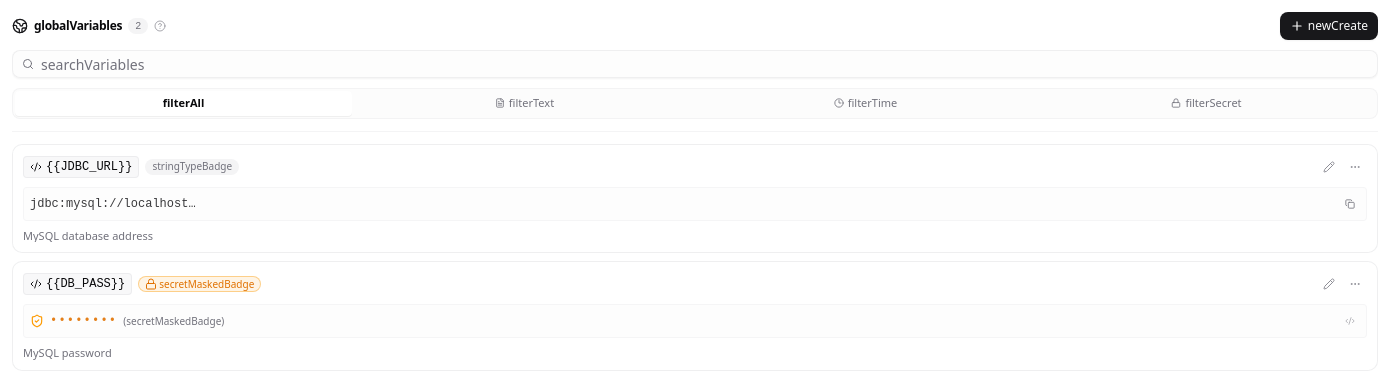
Test: GlobalVariablesSidebarPanel › filters variables by search query
This screenshot has width=1390, height=388.
Type "JDBC" into the field with placeholder "searchVariables".
click(695, 64); type("JDBC")  # box [12, 50, 1378, 78]
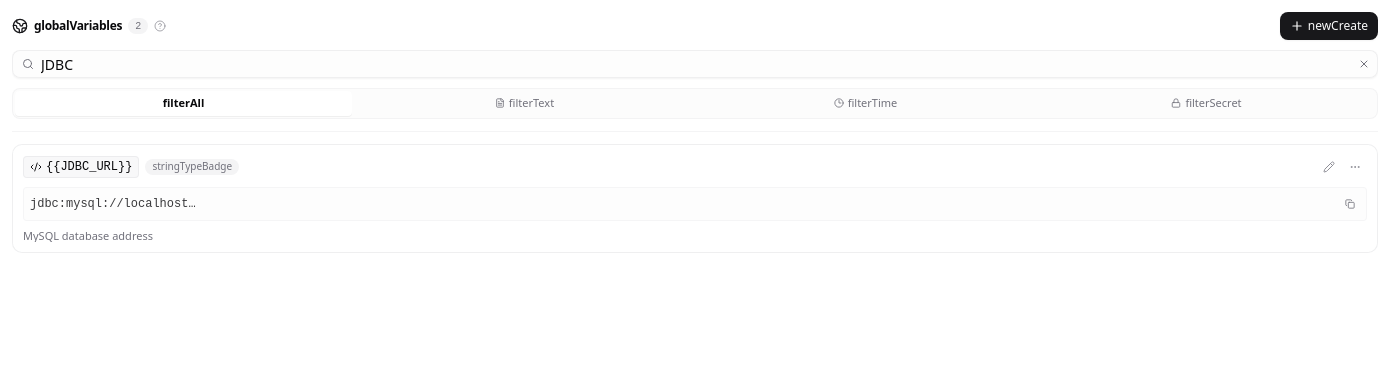
Expected: the text "{{JDBC_URL}}" is shown, [46, 158, 132, 174]
Expected: the button "{{DB_PASS}}" is gone
